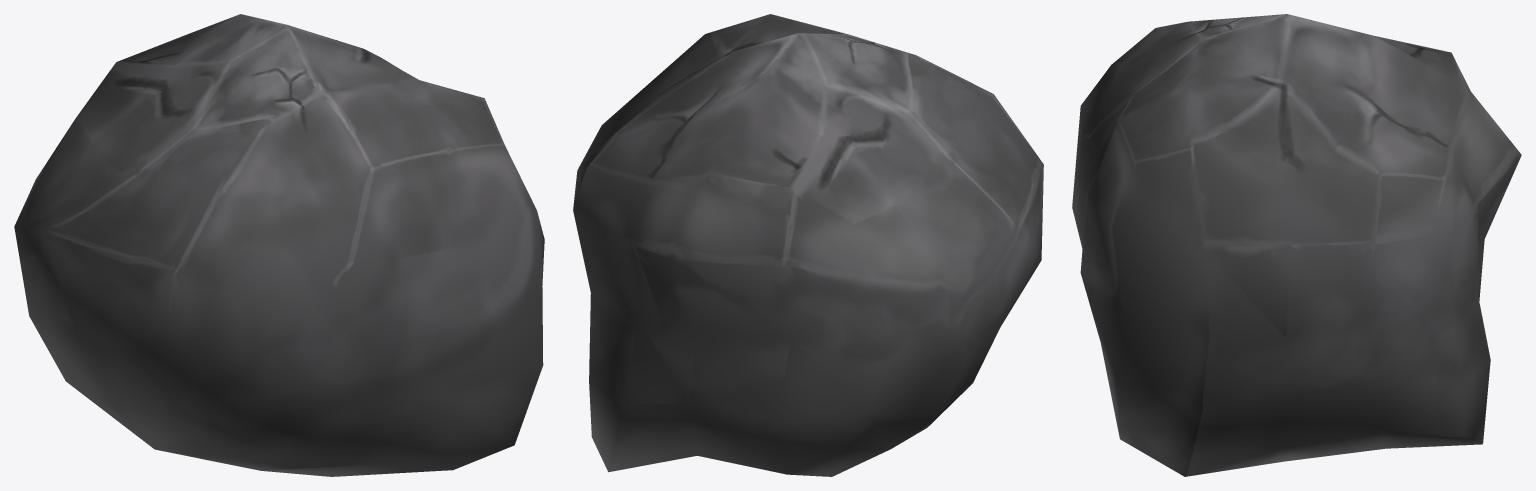
File: Rock.002.fbx
The picture shows the model from 3 angles, left to right: view 1: azimuth 30°, elevation 25°; view 2: azimuth 150°, elevation 25°; view 3: azimuth 270°, elevation 25°; orthographic projection. The views are drawn at different scales.
Parts seen in each view (by area): view 1: Cube; view 2: Cube; view 3: Cube.
Part boxes in pixels (left/top/right/bottom): Cube: left=14, top=14, right=544, bottom=476; Cube: left=573, top=14, right=1043, bottom=476; Cube: left=1072, top=14, right=1521, bottom=476.
Bounding box in the file's own units: 2.07 × 1.9 × 1.89.
